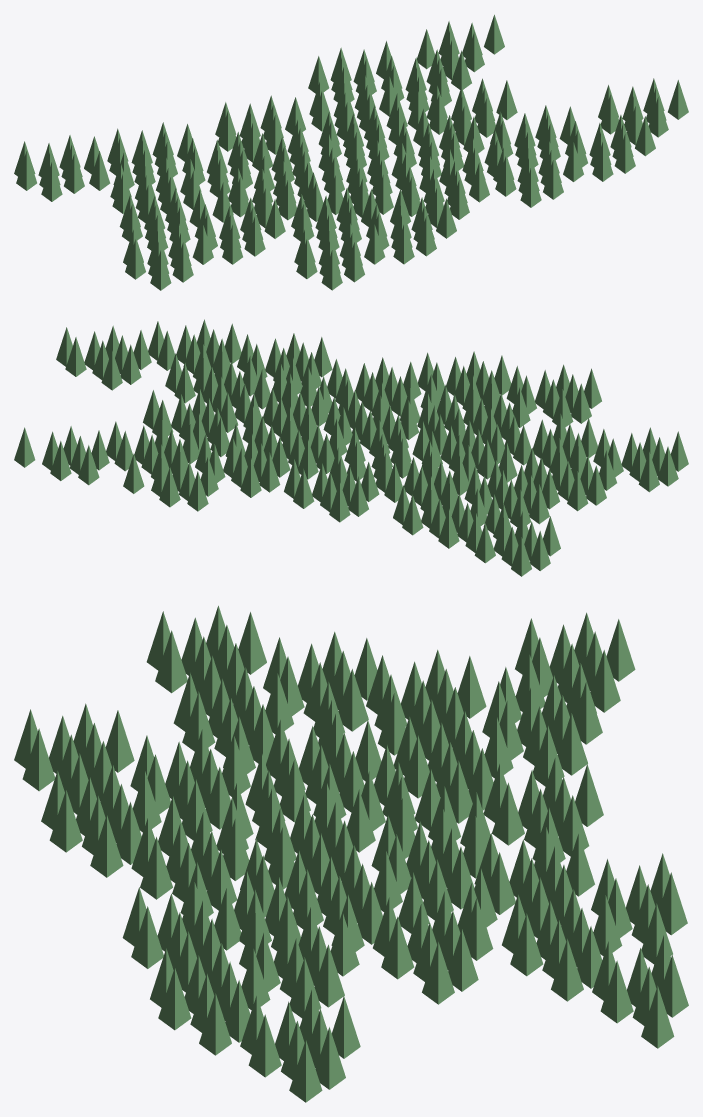
The model's file is forest11.fbx.
3 renders of one model, top to bottom at view 1: azimuth 30°, elevation 25°; view 2: azimuth 150°, elevation 25°; view 3: azimuth 270°, elevation 25°, orthographic. The views are drawn at different scales.
Visible parts, largest first — view 1: pCone6, pCone69, pCone150, pCone160, pCone177, pCone222, pCone4, pCone31, pCone34, pCone42, pCone52, pCone70 (+29 smaller); view 2: pCone83, pCone89, pCone155, pCone161, pCone66, pCone190, pCone191, pCone195, pCone198, pCone205, pCone218, pCone20 (+43 smaller); view 3: pCone40, pCone148, pCone184, pCone192, pCone121, pCone157, pCone160, pCone195, pCone31, pCone67, pCone151, pCone175 (+66 smaller).
Boxes of the visible parts, bbox=[...] form: pCone6: bbox=[222, 224, 242, 264]; pCone69: bbox=[321, 250, 342, 290]; pCone150: bbox=[592, 142, 613, 181]; pCone160: bbox=[668, 80, 688, 119]; pCone177: bbox=[520, 168, 541, 207]; pCone222: bbox=[41, 162, 62, 201]; pCone4: bbox=[244, 217, 265, 256]; pCone31: bbox=[172, 242, 193, 282]; pCone34: bbox=[192, 225, 213, 264]; pCone42: bbox=[393, 224, 414, 264]; pCone52: bbox=[469, 162, 489, 202]; pCone70: bbox=[364, 224, 385, 264]; pCone83: bbox=[329, 482, 350, 522]; pCone89: bbox=[293, 469, 314, 508]; pCone155: bbox=[101, 350, 122, 390]; pCone161: bbox=[65, 337, 86, 376]; pCone66: bbox=[571, 383, 591, 423]; pCone190: bbox=[50, 441, 71, 480]; pCone191: bbox=[78, 445, 99, 485]; pCone195: bbox=[14, 427, 35, 467]; pCone198: bbox=[187, 471, 208, 511]; pCone205: bbox=[240, 458, 261, 497]; pCone218: bbox=[511, 536, 531, 576]; pCone20: bbox=[567, 471, 588, 511]; pCone40: bbox=[49, 789, 82, 852]; pCone148: bbox=[158, 967, 191, 1030]; pCone184: bbox=[510, 913, 543, 976]; pCone192: bbox=[600, 960, 633, 1023]; pCone121: bbox=[381, 916, 414, 979]; pCone157: bbox=[248, 1014, 281, 1077]; pCone160: bbox=[289, 1039, 322, 1102]; pCone195: bbox=[641, 986, 674, 1048]; pCone31: bbox=[155, 630, 187, 693]; pCone67: bbox=[22, 728, 55, 791]; pCone151: bbox=[199, 992, 231, 1055]; pCone175: bbox=[131, 906, 163, 968].
Size of the model in its own units: 135 by 7.8 by 86.26.
